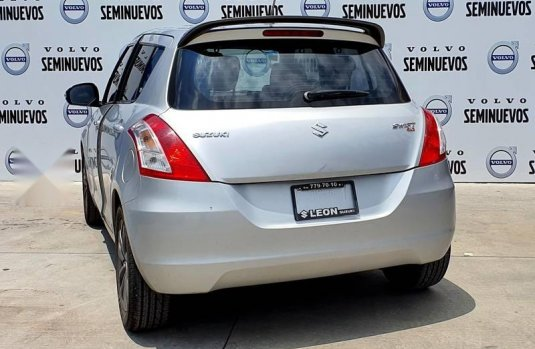Camioneta: (66, 13, 468, 305)
